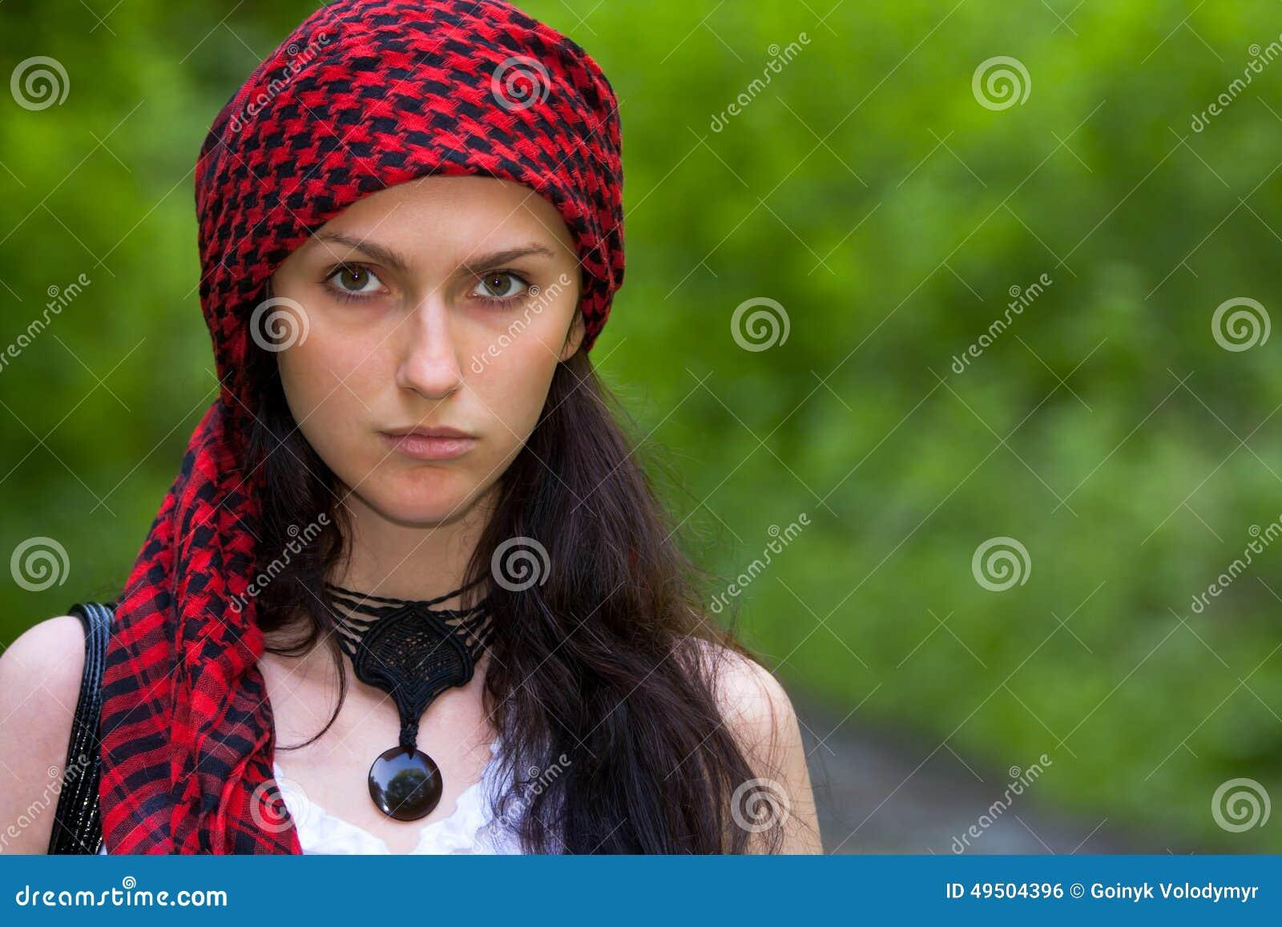cap: (163, 0, 643, 325)
